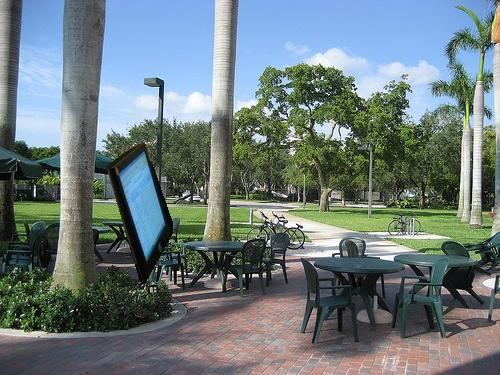tampered: (108, 143, 173, 284)
